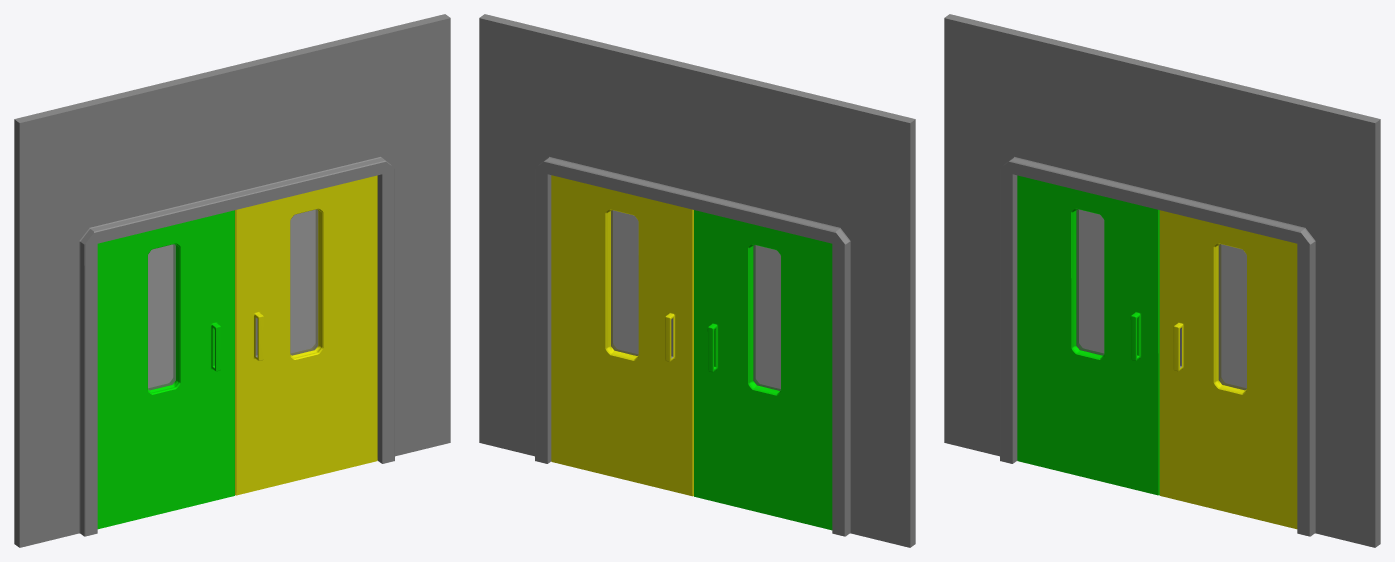
The model's file is Double_LabDoor.fbx.
3 views of the same model, side by side, from view 1: azimuth 30°, elevation 25°; view 2: azimuth 150°, elevation 25°; view 3: azimuth 330°, elevation 25° (orthographic).
Visible parts, largest first — view 1: Double_LabDoor_Wall, Single_LabDoor, Single_LabDoor1; view 2: Double_LabDoor_Wall, Single_LabDoor, Single_LabDoor1; view 3: Double_LabDoor_Wall, Single_LabDoor1, Single_LabDoor.
Boxes of the visible parts, x1,y1,x2,y2 form: Double_LabDoor_Wall: (14,14,450,547); Single_LabDoor: (235,175,377,495); Single_LabDoor1: (97,210,234,529); Double_LabDoor_Wall: (479,14,915,547); Single_LabDoor: (551,175,693,496); Single_LabDoor1: (694,210,832,530); Double_LabDoor_Wall: (944,14,1380,547); Single_LabDoor1: (1017,175,1159,495); Single_LabDoor: (1159,210,1297,529).
Bounding box in the file's own units: 368 × 347 × 24.22.
